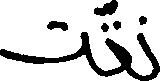X: (0, 16, 88, 68), (105, 0, 129, 80), (138, 11, 159, 80)
